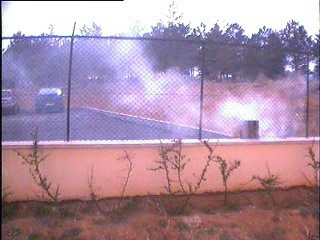smoke: (83, 31, 297, 140)
